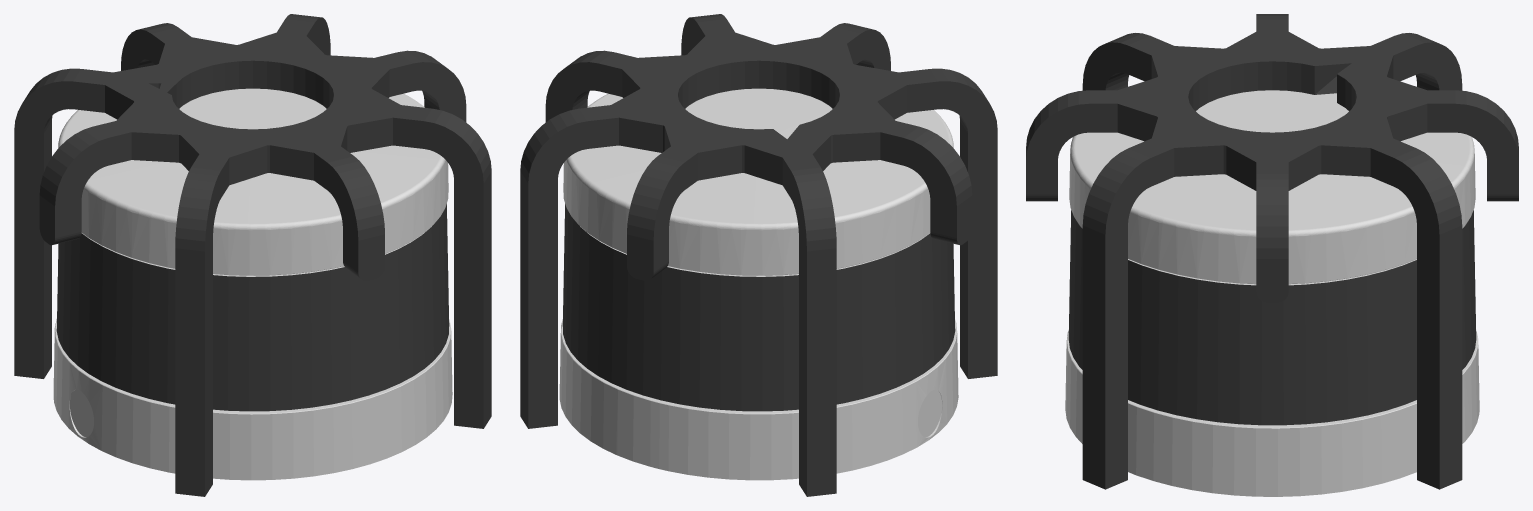
Rendered from velo.dae.
The picture shows the model from 3 angles, left to right: view 1: azimuth 30°, elevation 25°; view 2: azimuth 150°, elevation 25°; view 3: azimuth 270°, elevation 25°; orthographic projection. The views are drawn at different scales.
Visible parts, largest first — view 1: Velo; view 2: Velo; view 3: Velo.
Boxes of the visible parts, x1,y1,x2,y2 form: Velo: (14, 14, 491, 496); Velo: (520, 14, 997, 496); Velo: (1026, 14, 1518, 496).
Bounding box in the file's own units: 0.1229 × 0.1229 × 0.0859.
